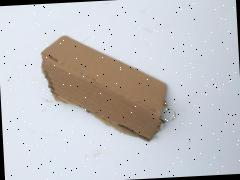cardboard: (26, 16, 209, 166)
